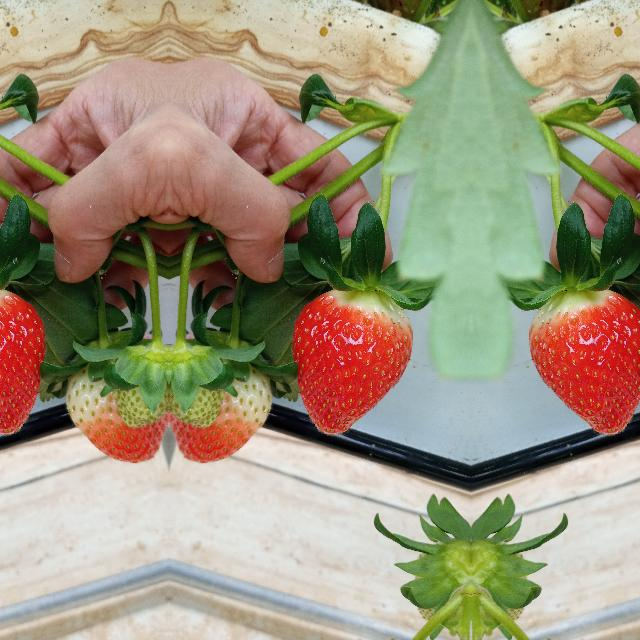Health_100: (291, 288, 413, 436), (528, 288, 640, 436), (0, 288, 45, 436)
Health_25: (120, 336, 160, 432), (177, 336, 216, 432)
Health_75: (168, 366, 282, 460), (54, 366, 168, 460)
